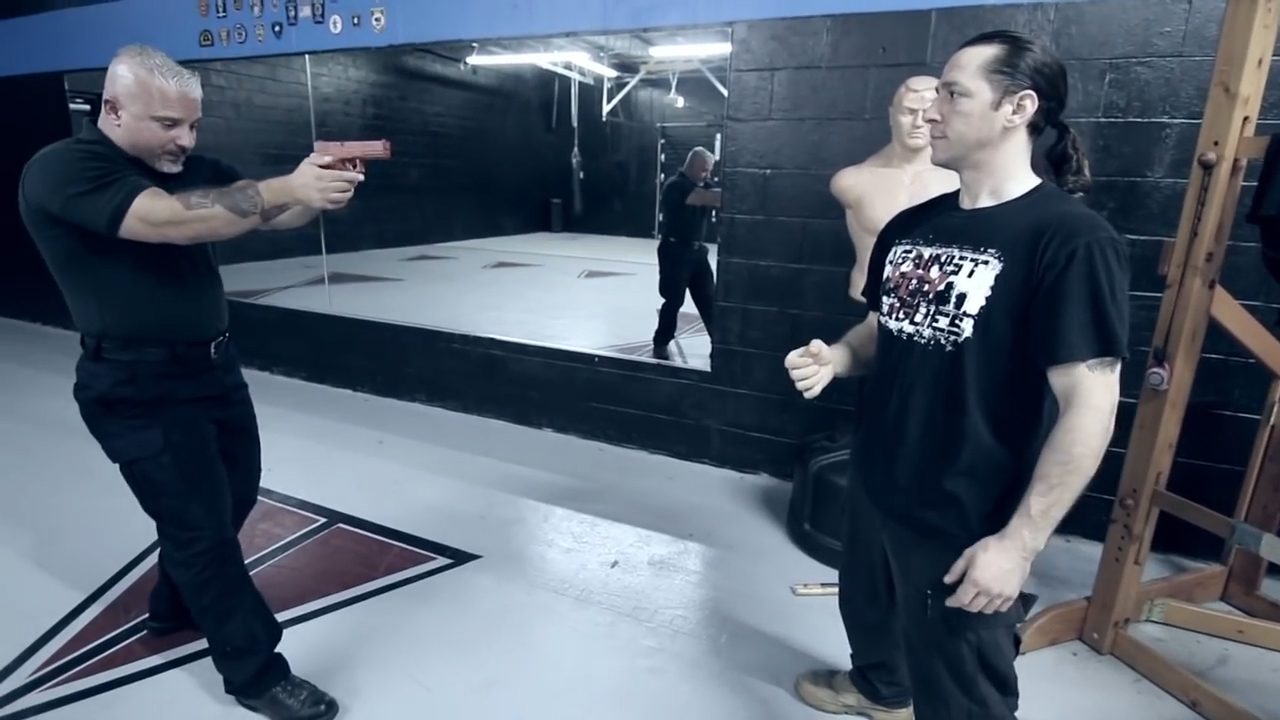pistol: (313, 137, 392, 176)
